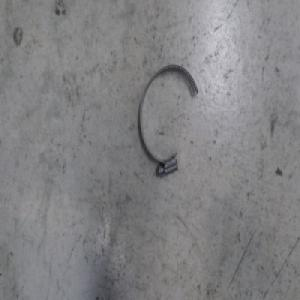AdjustableClamp: (138, 64, 200, 179)
